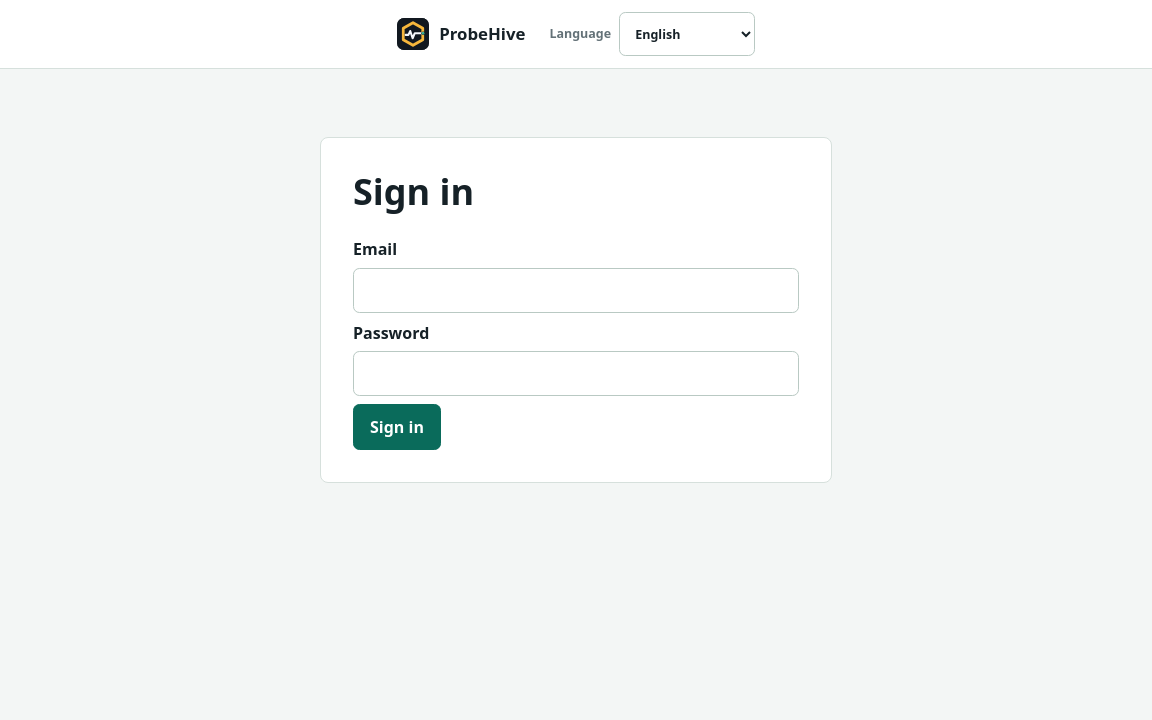
shows a generic message for invalid credentials
Type "admin@example.test" into the field labelled "Email" at (576, 290), box [353, 268, 799, 313]
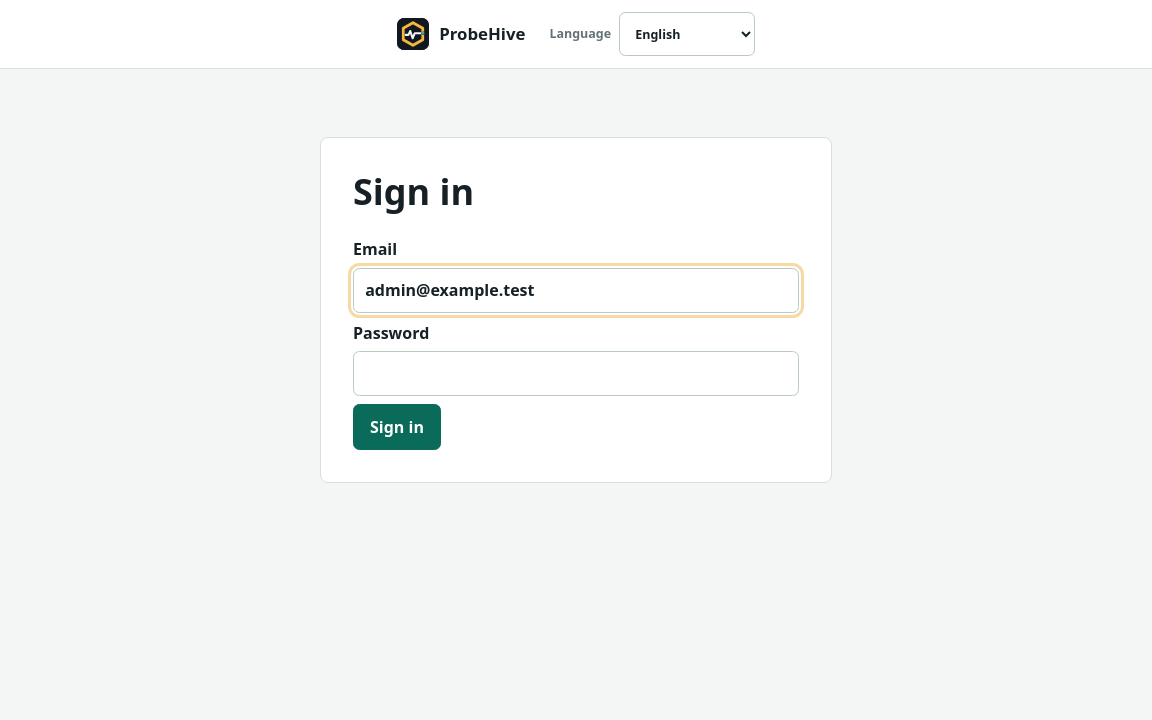
Type "wrong-password-entirely" into the password field labelled "Password" at (576, 374), box [353, 351, 799, 396]
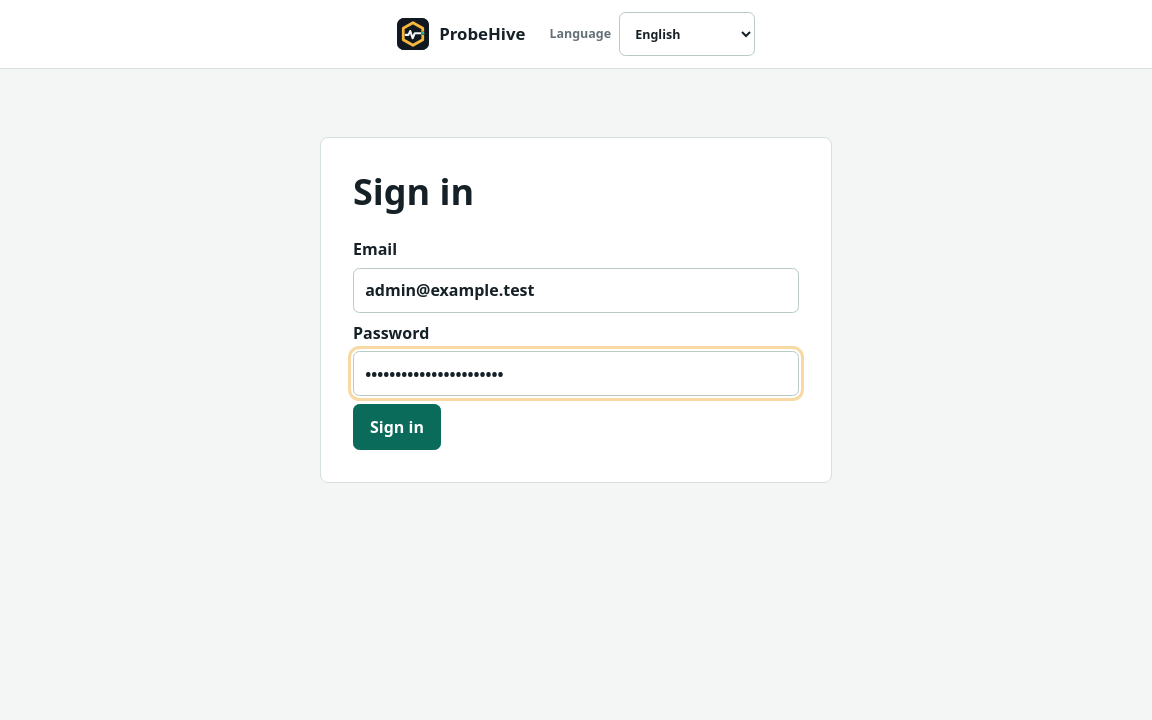
Click the button "Sign in" at (397, 427), box [353, 404, 441, 450]
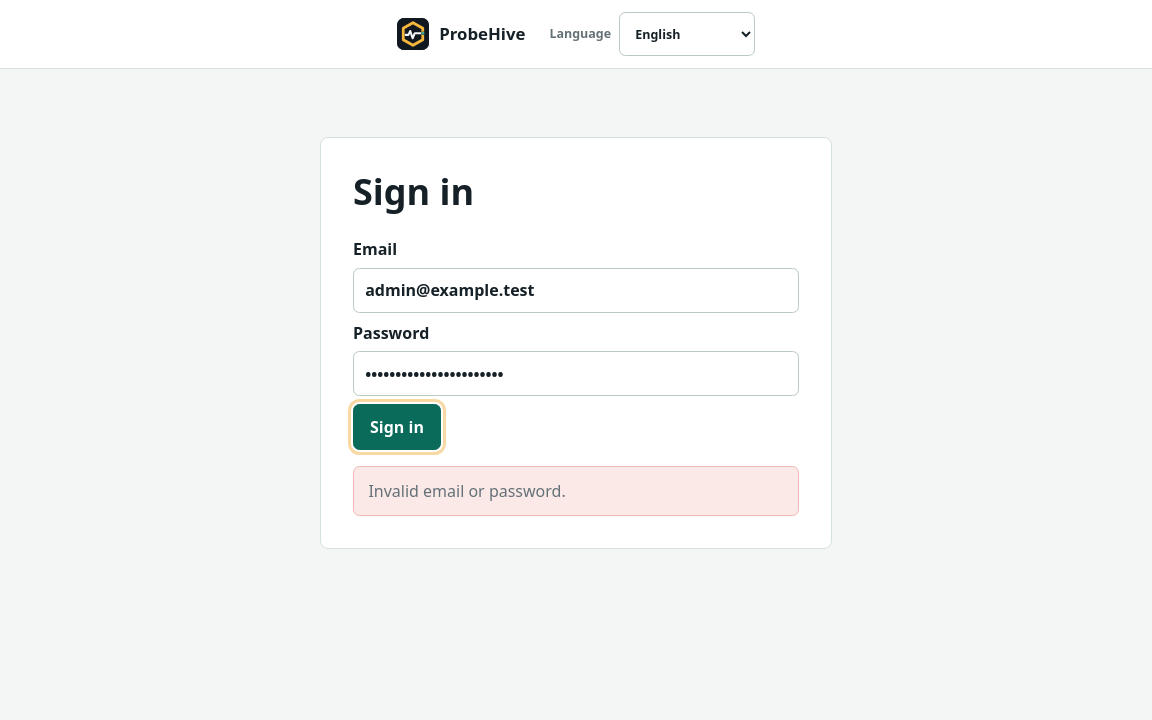
Now the message reads "Invalid email or password.", box [368, 480, 566, 502]
